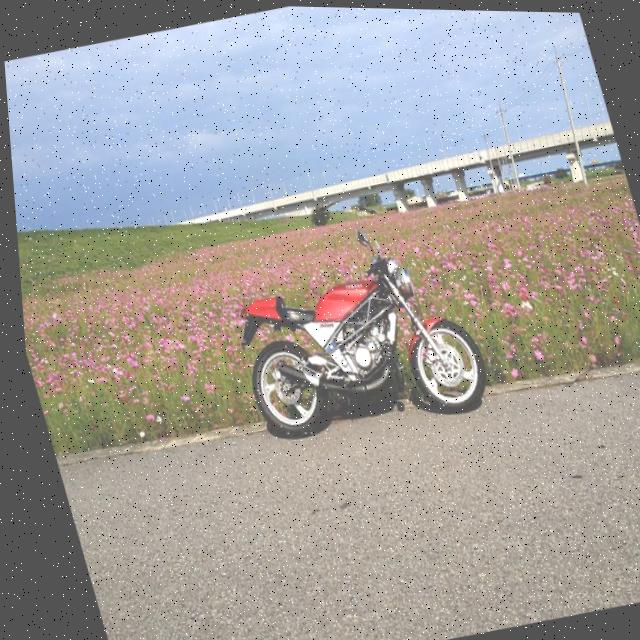motorcycle: (198, 206, 507, 457)
